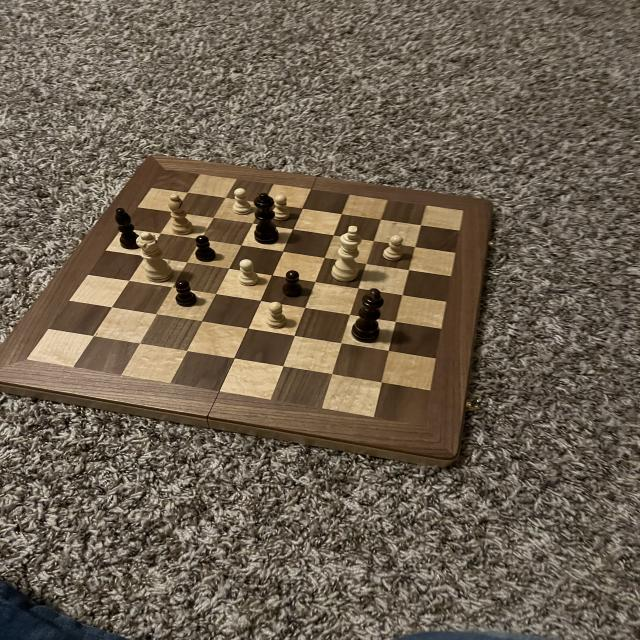bishop: (107, 206, 150, 252)
black-bishop: (347, 288, 386, 344)
black-knight: (169, 278, 203, 309), (189, 233, 222, 263), (280, 265, 304, 300)
black-pawn: (239, 179, 293, 252)
black-rook: (160, 190, 198, 238)
white-bishop: (320, 221, 376, 285)
white-knight: (232, 254, 260, 289), (381, 232, 411, 264), (264, 300, 290, 332), (230, 186, 255, 218), (270, 193, 292, 226)
white-pawn: (134, 230, 178, 284)
